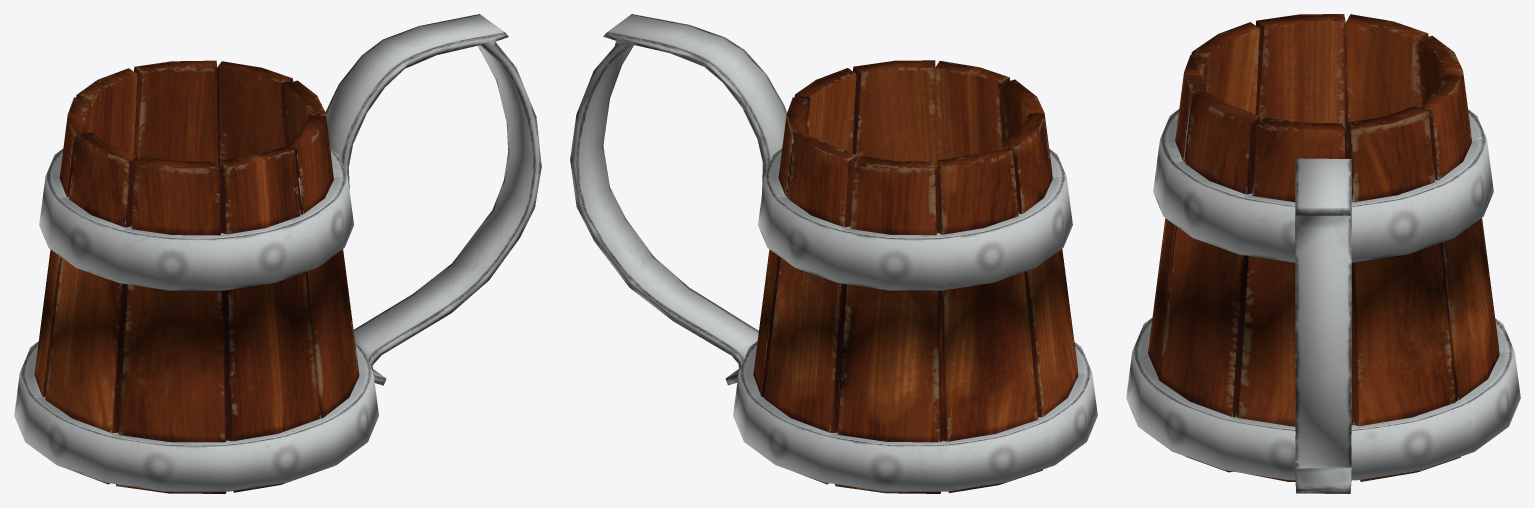
File: mug.fbx
3 renders of one model, left to right at view 1: azimuth 30°, elevation 25°; view 2: azimuth 150°, elevation 25°; view 3: azimuth 270°, elevation 25°, orthographic. The views are drawn at different scales.
Visible parts, largest first — view 1: mug; view 2: mug; view 3: mug.
Part boxes in pixels (left/top/right/bottom): mug: left=14, top=14, right=541, bottom=493; mug: left=570, top=14, right=1097, bottom=493; mug: left=1126, top=14, right=1520, bottom=493.
Size of the model in its own units: 330 by 214 by 214.
